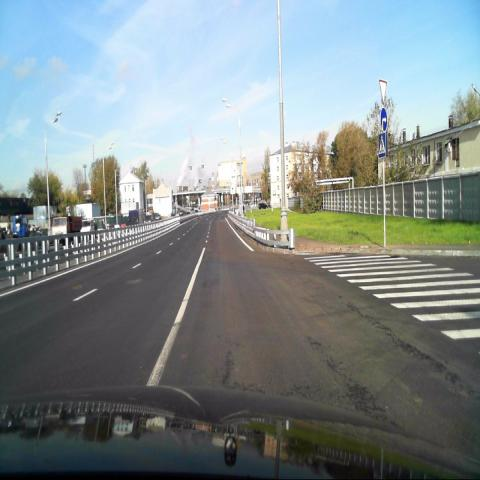4_1_2: (378, 106, 388, 132)
